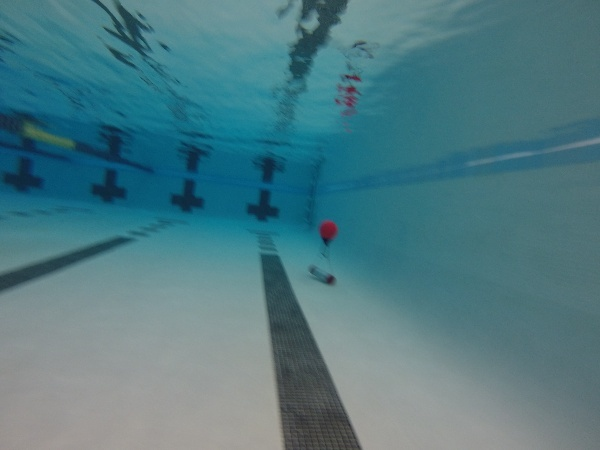buoy_red: (316, 219, 339, 250)
